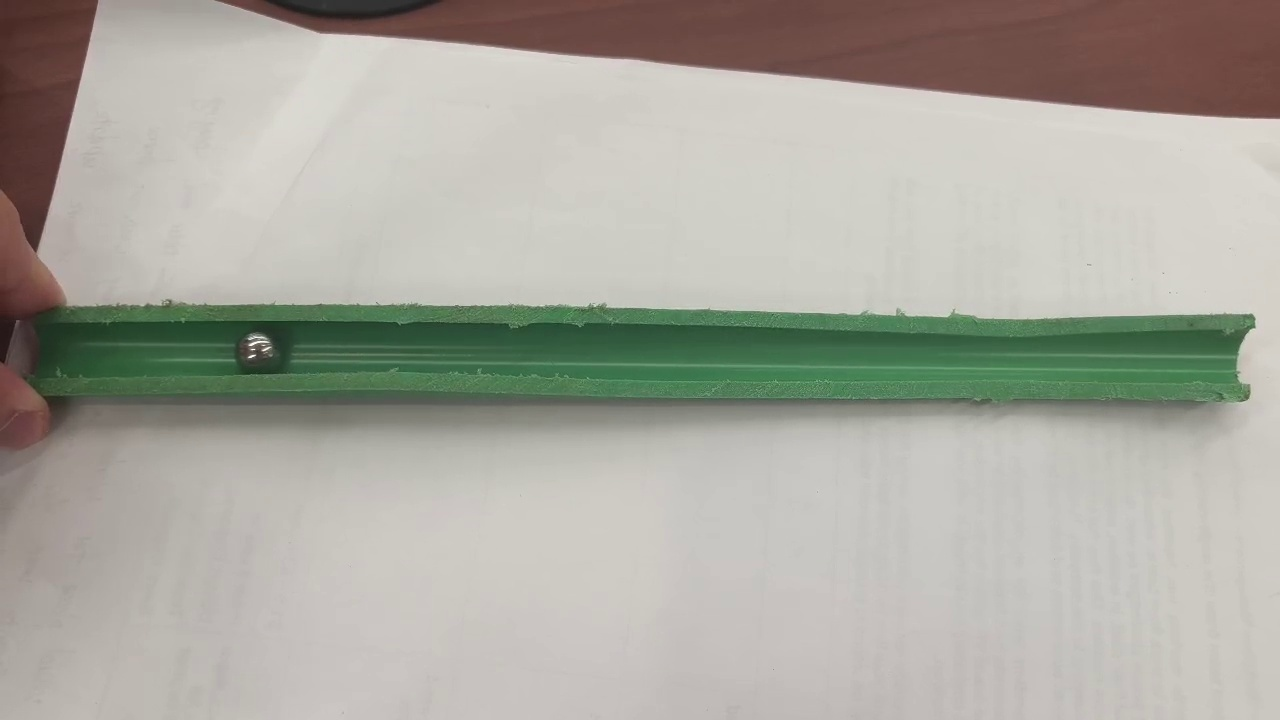ball: (238, 332, 274, 366)
